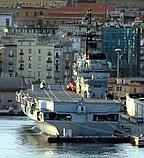MIL_Ship: (15, 10, 124, 143)
